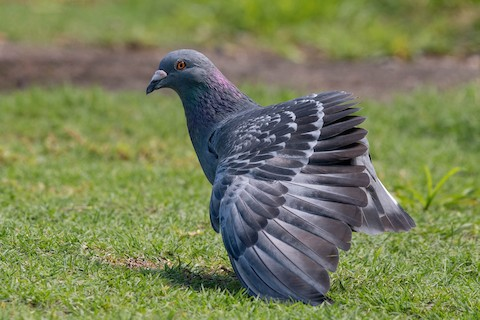pigeon: (138, 43, 421, 310)
